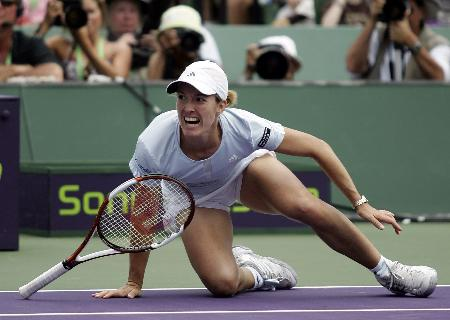fall: (101, 54, 440, 301)
